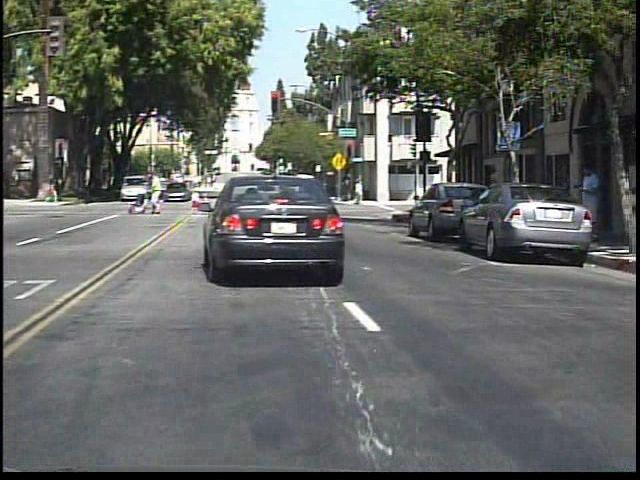person: (578, 158, 604, 212), (153, 171, 175, 218), (45, 174, 62, 207), (99, 174, 100, 205)
